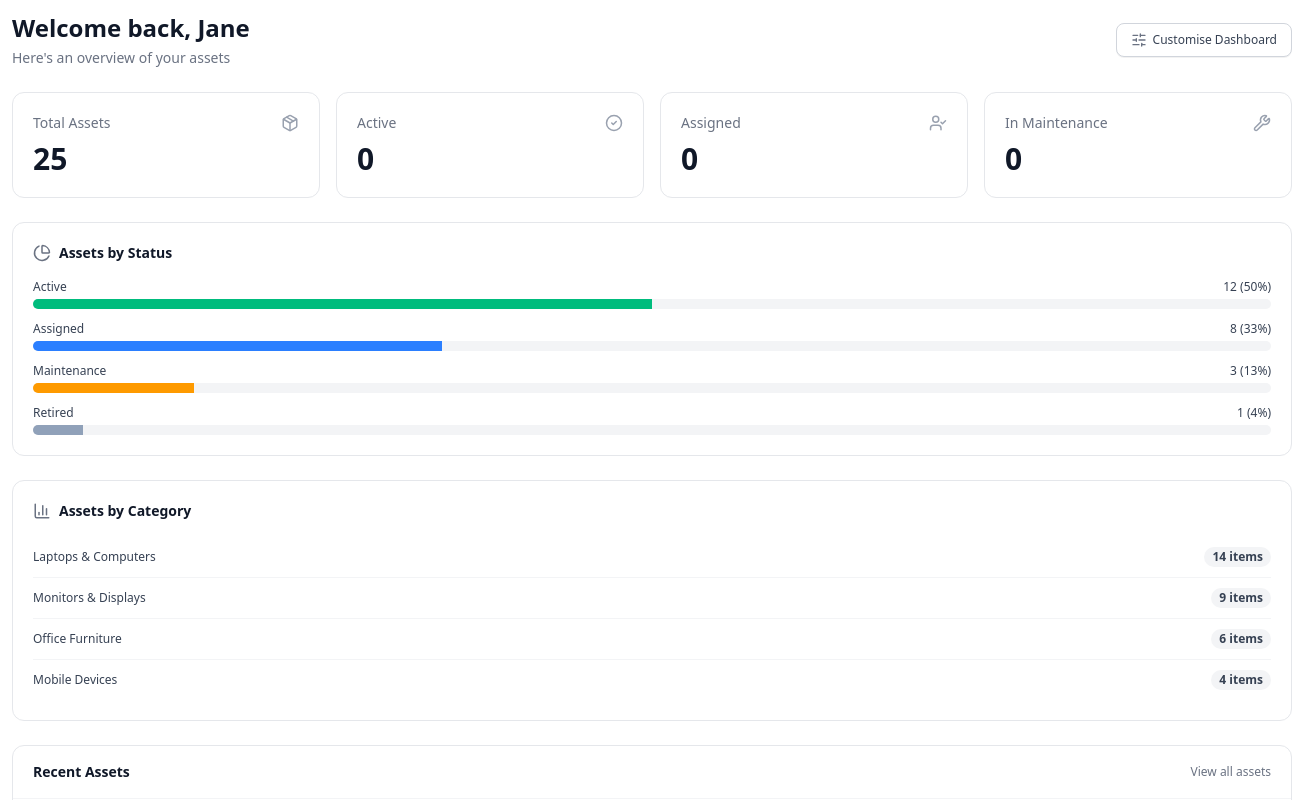
Scenario: DashboardPage Customization (Issue #1050) › allows hiding a widget and restoring it from hidden cards list
The image size is (1304, 800).
Click the button "Customise Dashboard" at {"x": 1204, "y": 40}, box [1116, 23, 1292, 57]
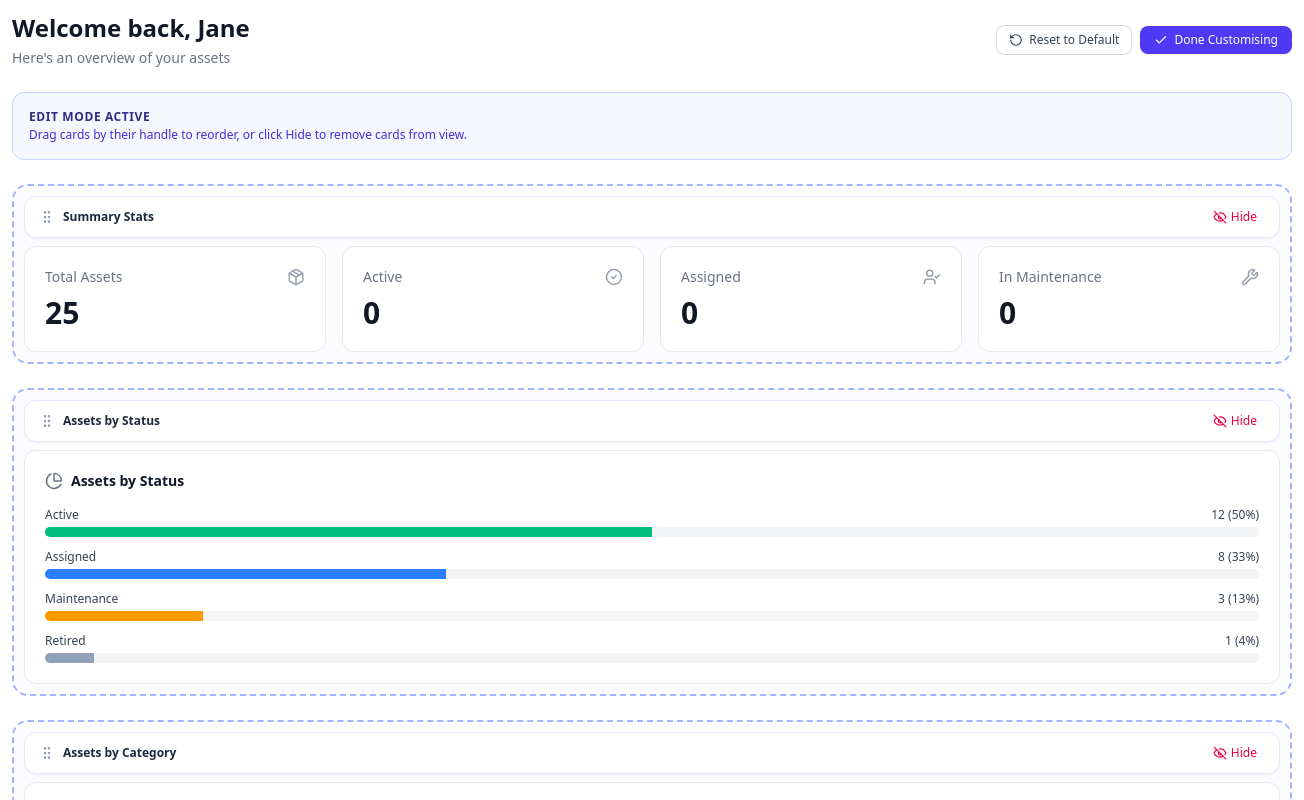
Expected: the 1st button "Hide" is shown
Click the 1st button "Hide" at {"x": 1235, "y": 217}, box [1205, 205, 1265, 229]
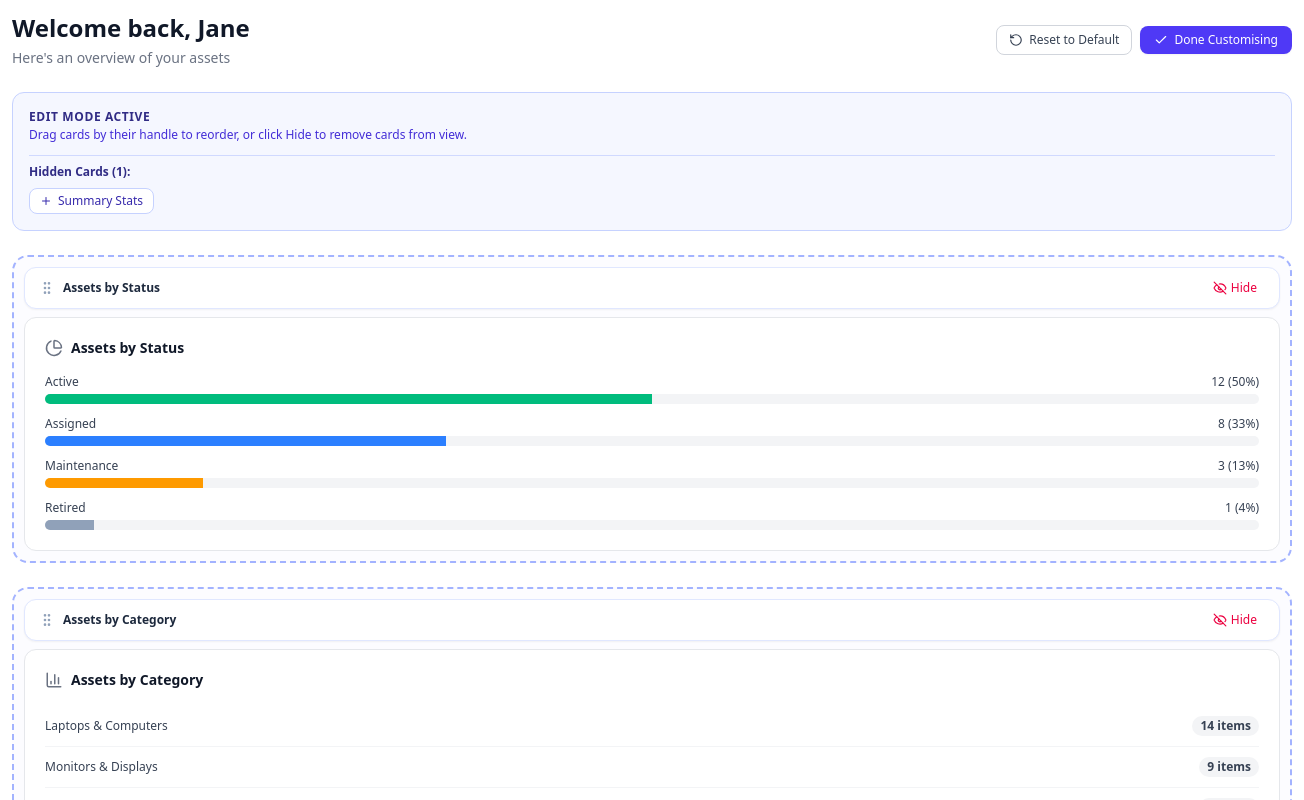
Expected: the text "Hidden Cards (1):" is shown, [29, 163, 130, 180]
